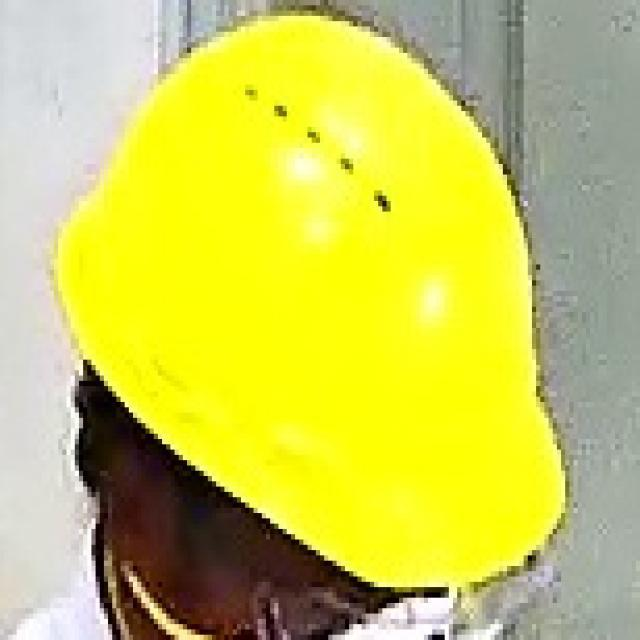yellow helmet: (48, 1, 583, 595)
